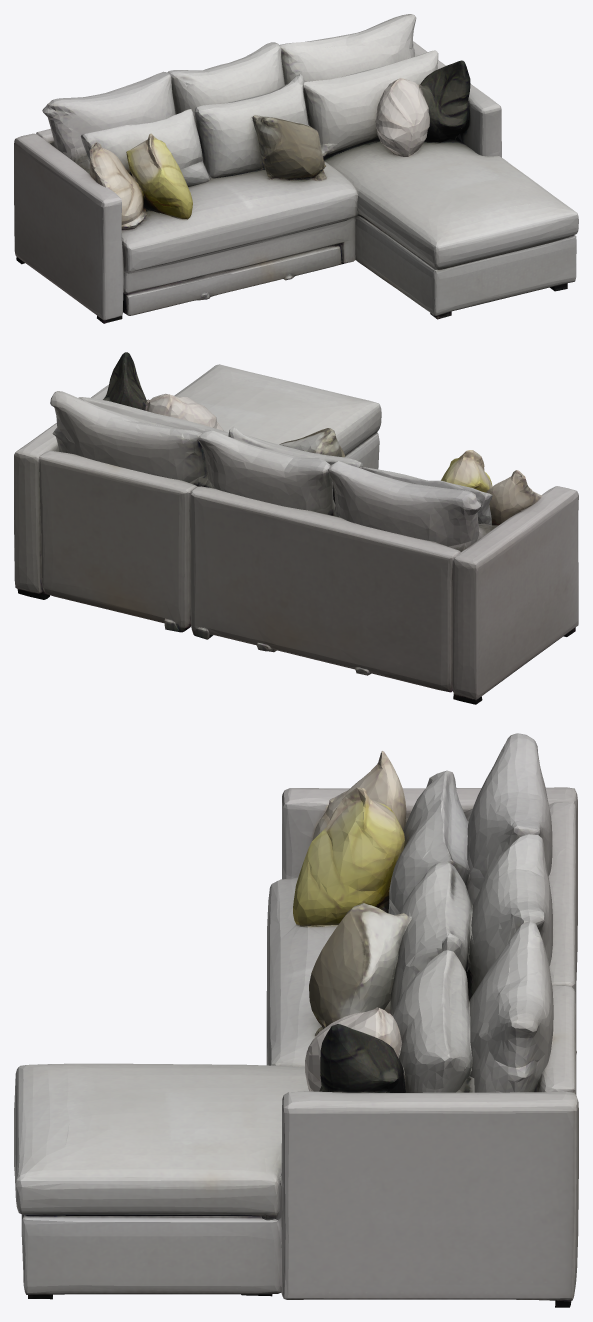
File: SOFA CAMA ASHA OAT.glb
3 views of the same model, one above another, from view 1: azimuth 30°, elevation 25°; view 2: azimuth 150°, elevation 25°; view 3: azimuth 270°, elevation 25° (orthographic). The views are drawn at different scales.
Visible parts, largest first — view 1: world; view 2: world; view 3: world.
Boxes of the visible parts, x1,y1,x2,y2 form: world: (14,14,578,323); world: (14,352,578,704); world: (14,733,578,1307).
Size of the model in its own units: 1 by 0.3996 by 0.7438.
1 material, 1 textured.
